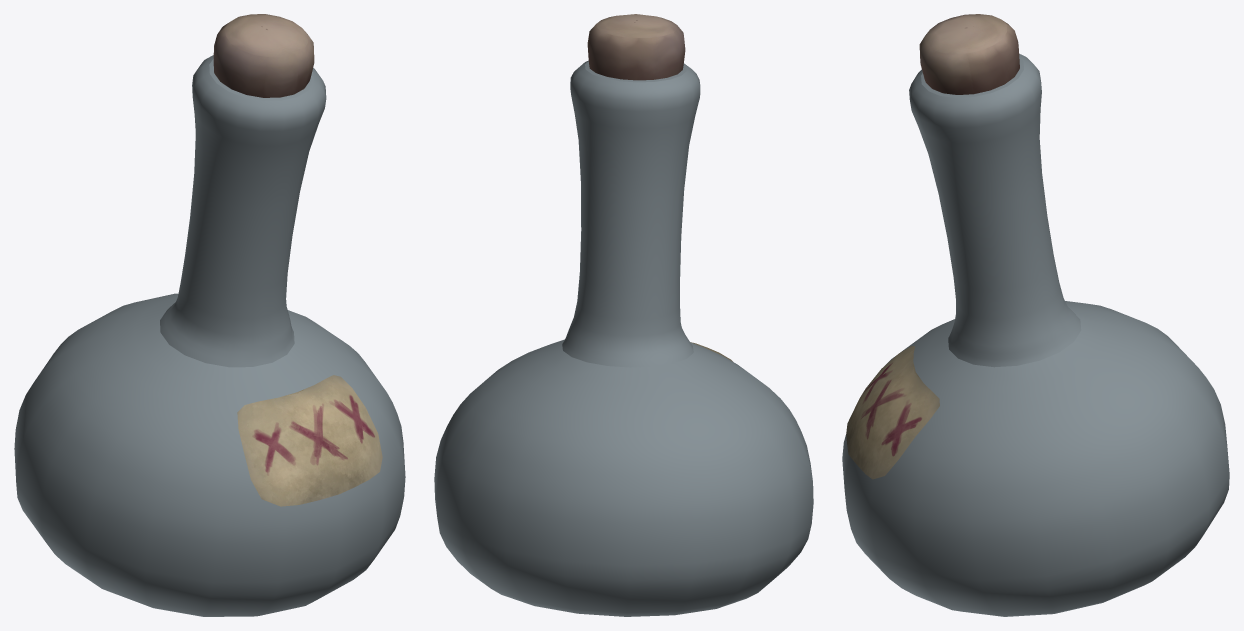
The model's file is 03_Chemistry.fbx.
3 renders of one model, left to right at view 1: azimuth 30°, elevation 25°; view 2: azimuth 150°, elevation 25°; view 3: azimuth 270°, elevation 25°, orthographic. The views are drawn at different scales.
Visible parts, largest first — view 1: Verre.001, Verre.002, Verre.000; view 2: Verre.001, Verre.000; view 3: Verre.001, Verre.002, Verre.000.
Part boxes in pixels (x1,y1,x2,y2): Verre.001: (14,55,405,616); Verre.002: (237,375,382,506); Verre.000: (213,14,314,97); Verre.001: (434,60,813,616); Verre.000: (587,14,685,80); Verre.001: (842,54,1229,616); Verre.002: (846,346,939,479); Verre.000: (919,14,1019,94).
Bounding box in the file's own units: 46.74 × 73.11 × 46.38.
